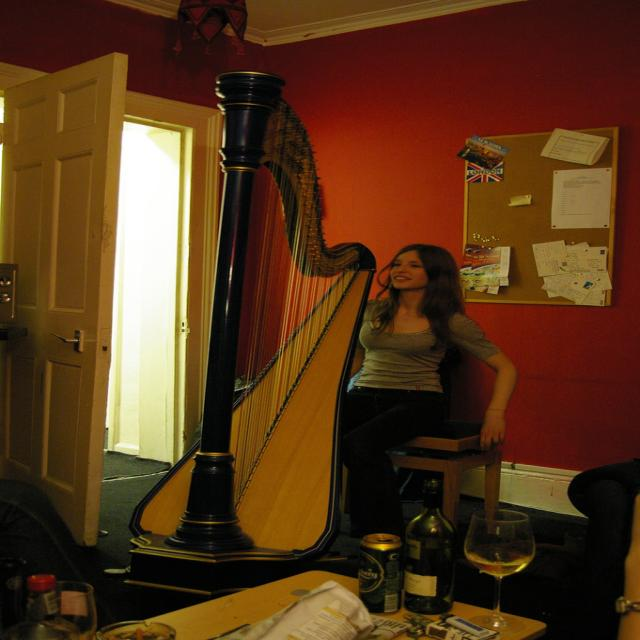harp: (120, 65, 384, 590)
